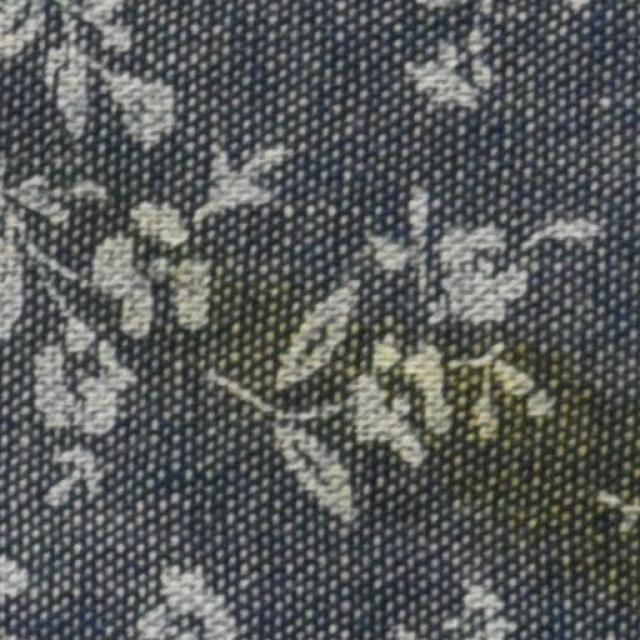Stain: (63, 190, 639, 619)
